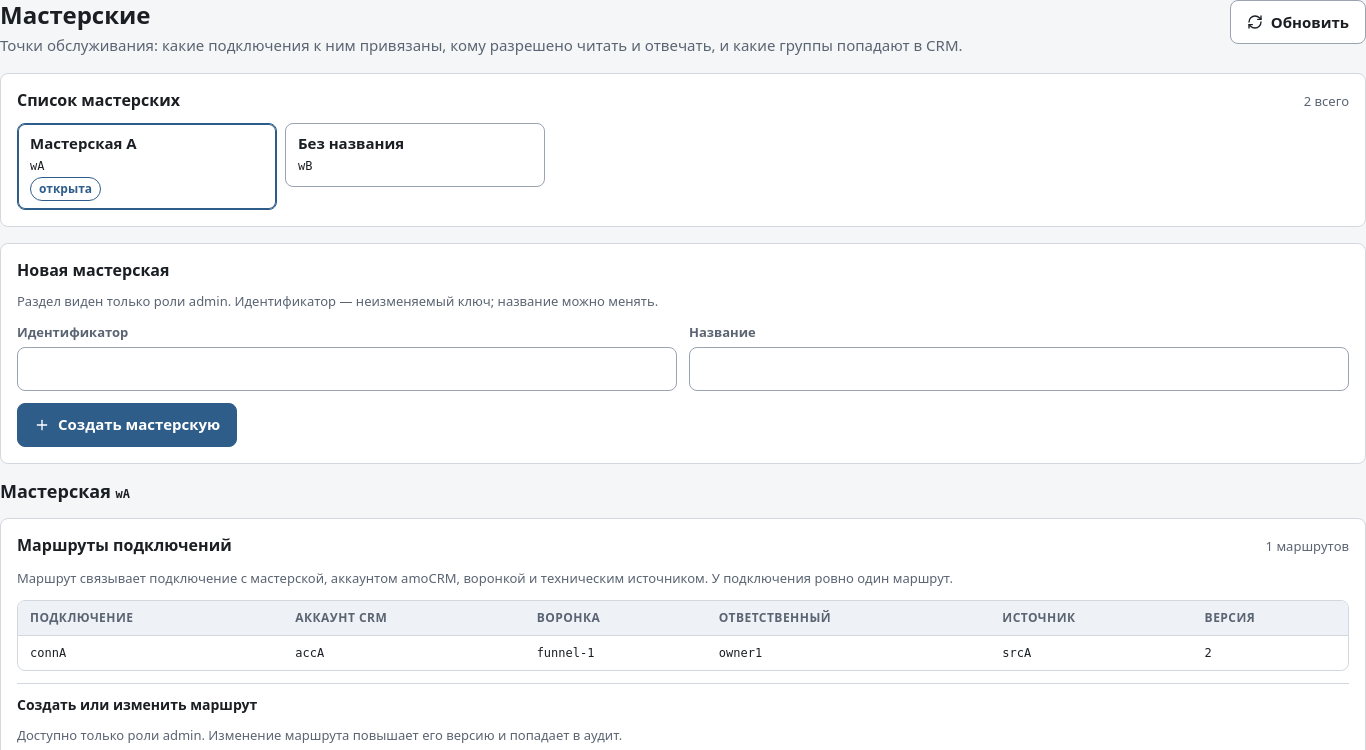
Test: страница мастерских › создаёт мастерскую и валидирует идентификатор
Click the button "Создать мастерскую".
click(127, 424)  # box [17, 402, 237, 446]
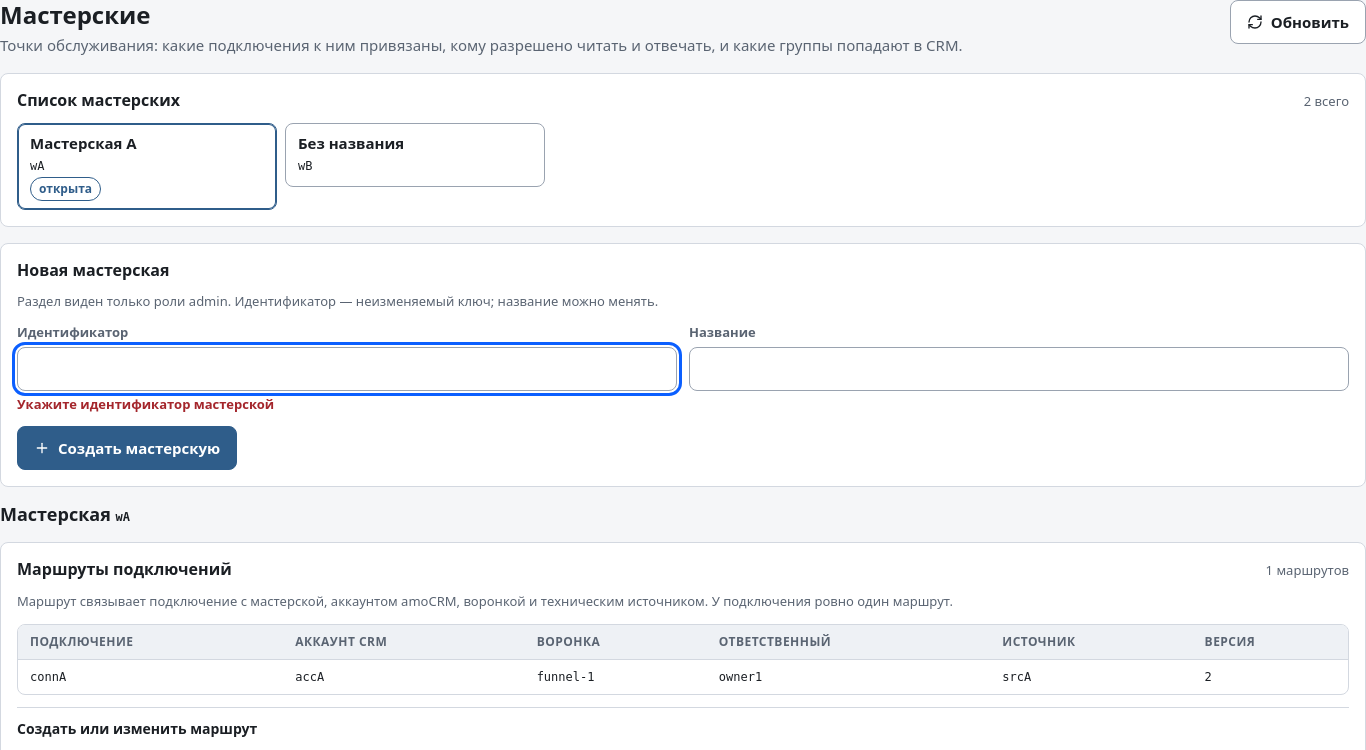
Result: the text "Укажите идентификатор мастерской" is shown at [17, 394, 274, 412]
Type "wC" into the field labelled "Идентификатор".
click(347, 368); type("wC")  # box [17, 346, 677, 390]
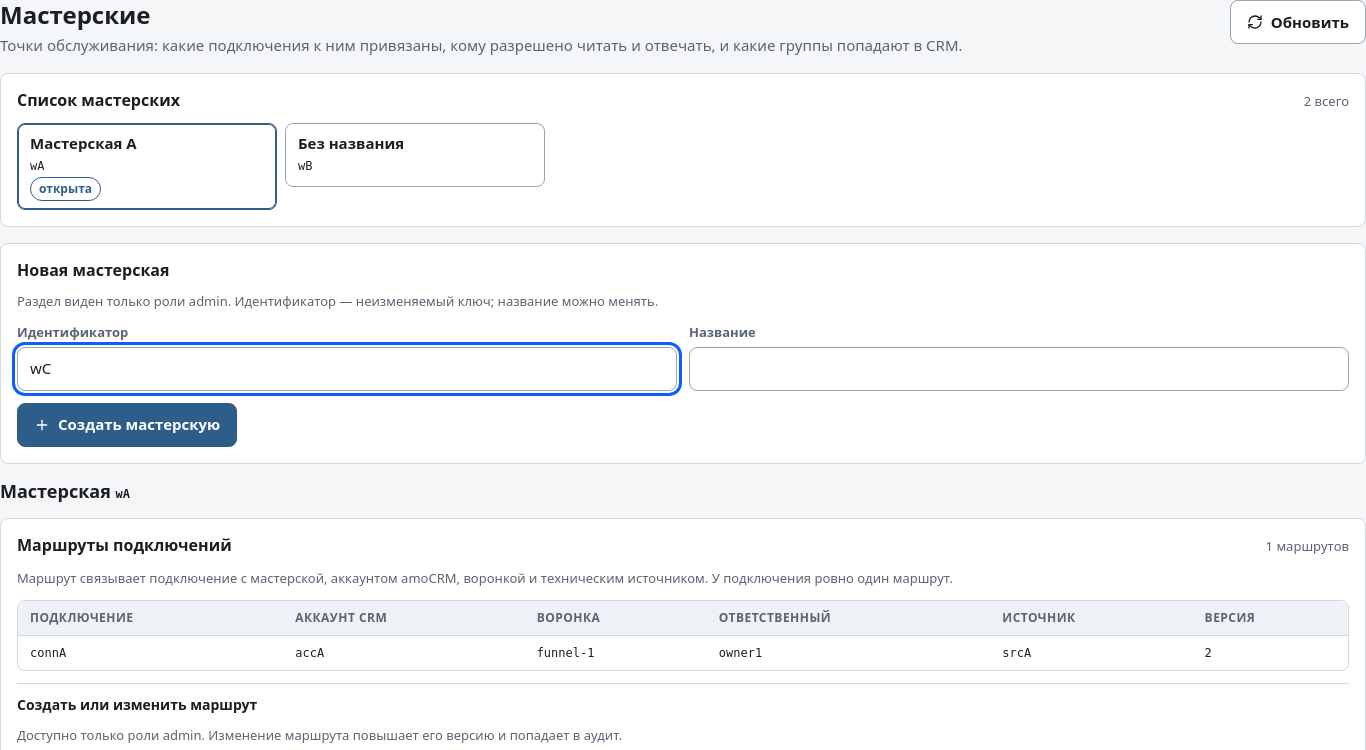
Type "Мастерская C" into the field labelled "Название".
click(1019, 368); type("Мастерская C")  # box [689, 346, 1349, 390]
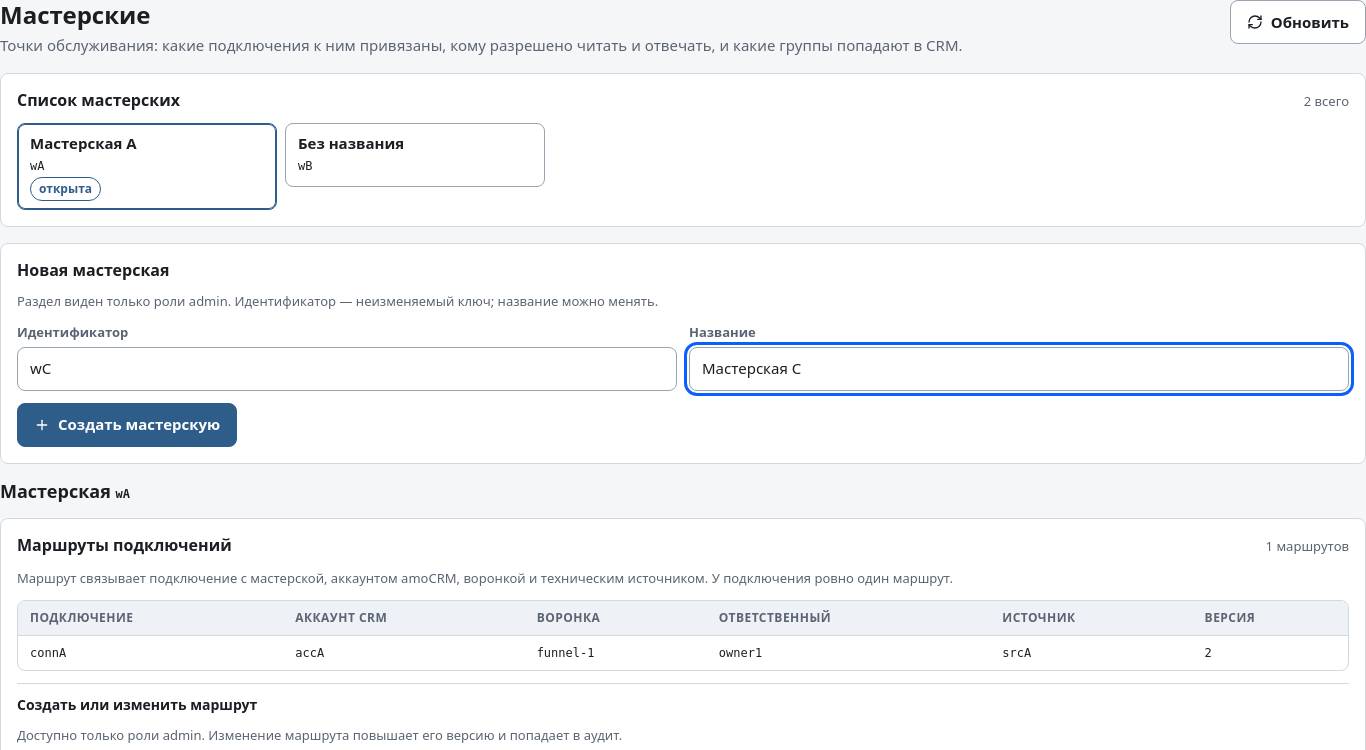
Click the button "Создать мастерскую".
click(127, 424)  # box [17, 402, 237, 446]
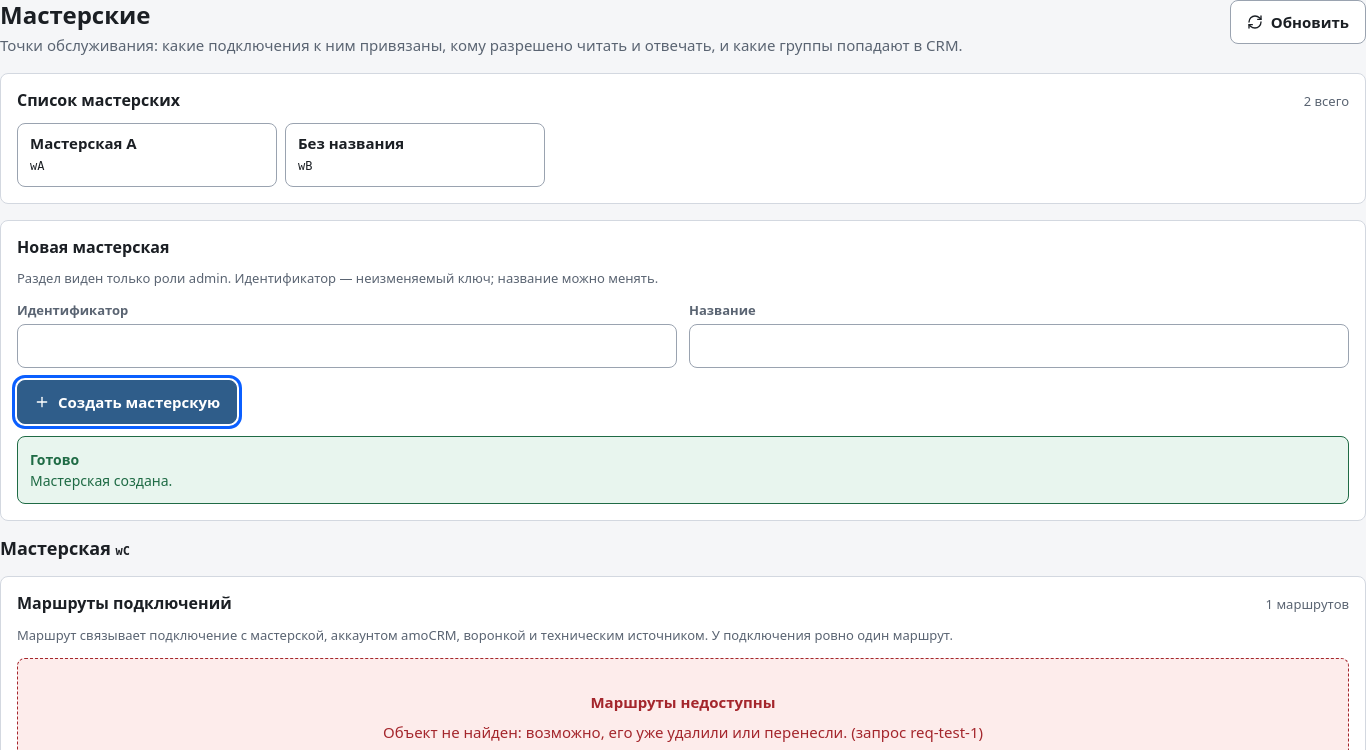
Result: the text "Мастерская создана." is shown at [30, 471, 172, 490]
